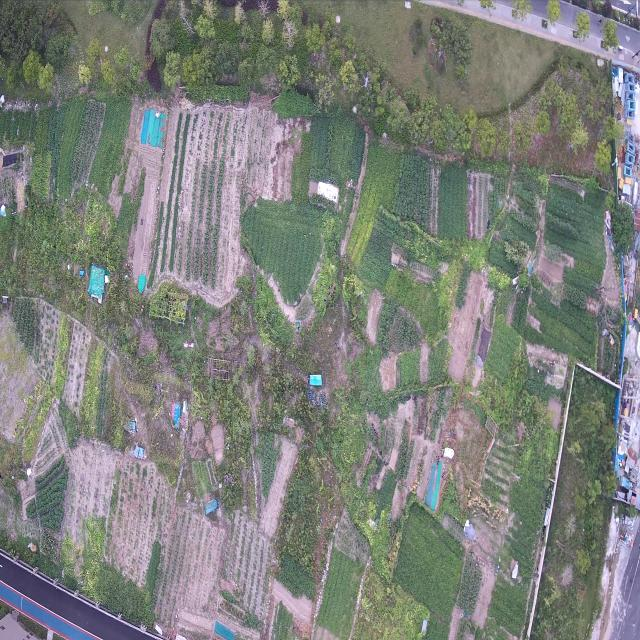UAV: (360, 73, 372, 92)
